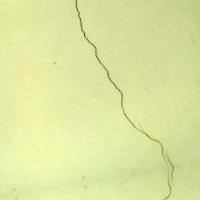crack: (68, 1, 169, 194)
